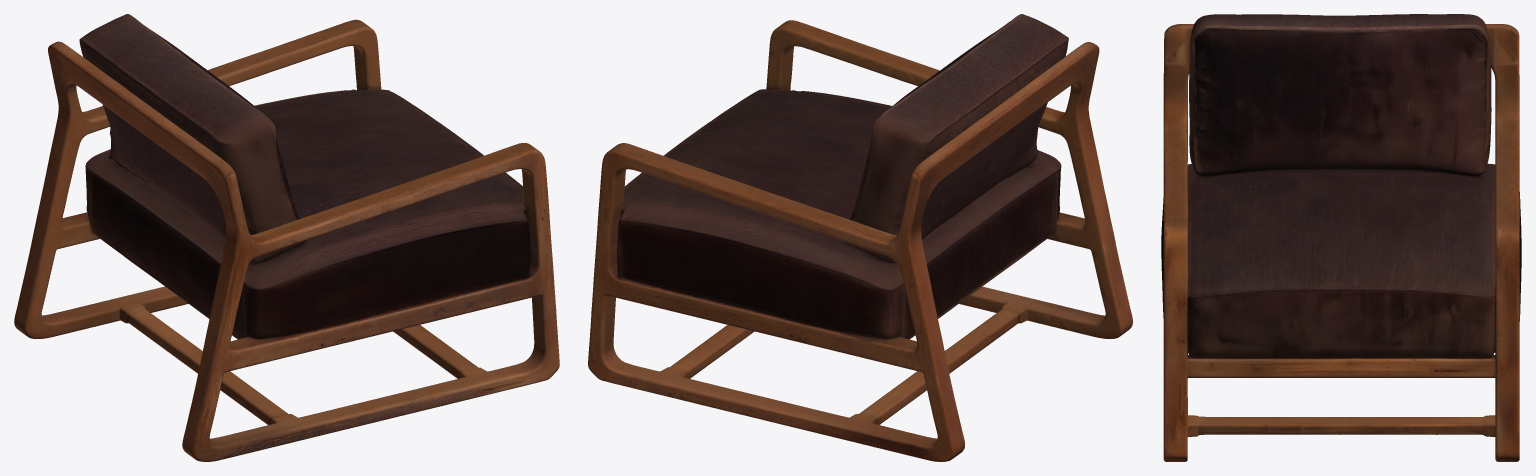
Rendered from c03-stylized.glb.
3 views of the same model, side by side, from view 1: azimuth 30°, elevation 25°; view 2: azimuth 150°, elevation 25°; view 3: azimuth 270°, elevation 25° (orthographic).
Parts seen in each view (by area): view 1: tripo_node_df645e6f-e69c-4239-a6b5-c5e9a818f566; view 2: tripo_node_df645e6f-e69c-4239-a6b5-c5e9a818f566; view 3: tripo_node_df645e6f-e69c-4239-a6b5-c5e9a818f566.
Part boxes in pixels (x1,y1,x2,y2): tripo_node_df645e6f-e69c-4239-a6b5-c5e9a818f566: (14, 14, 559, 461); tripo_node_df645e6f-e69c-4239-a6b5-c5e9a818f566: (588, 14, 1132, 461); tripo_node_df645e6f-e69c-4239-a6b5-c5e9a818f566: (1161, 14, 1521, 461).
Bounding box in the file's own units: 1 × 0.8213 × 0.8604.
Materials: 1 (1 with a texture image).
